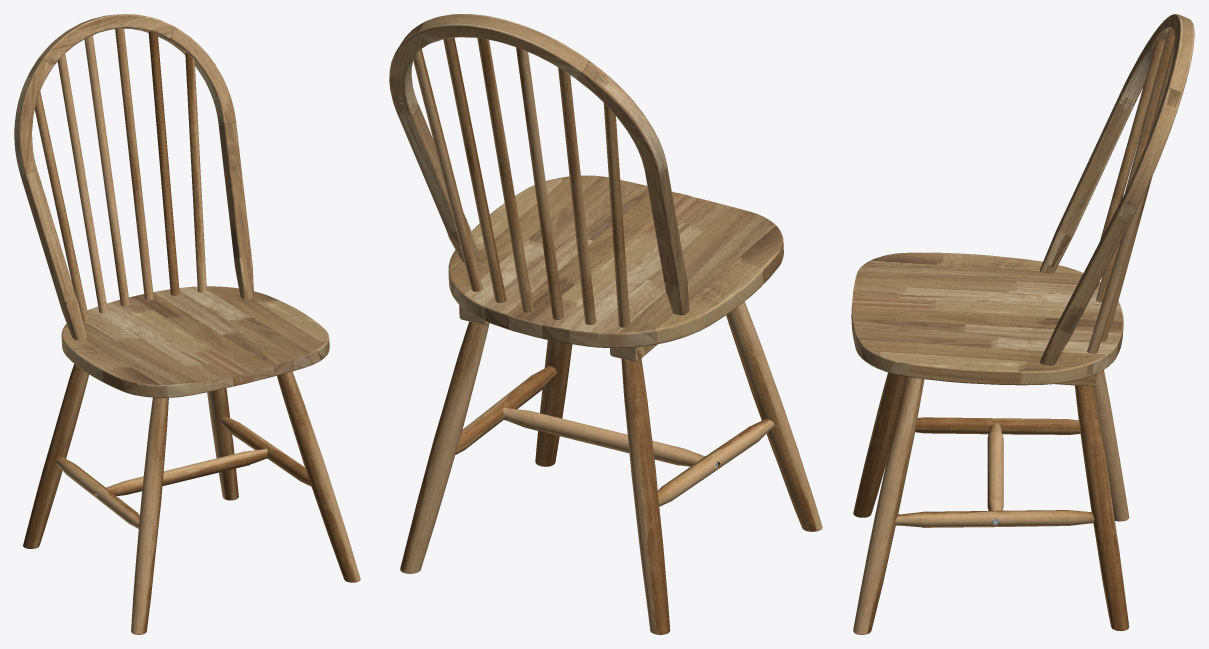
File: skogsta_krzeso_70544866.glb
3 views of the same model, side by side, from view 1: azimuth 30°, elevation 25°; view 2: azimuth 150°, elevation 25°; view 3: azimuth 270°, elevation 25° (orthographic). The views are drawn at different scales.
Parts seen in each view (by area): view 1: skogsta_krzeso_70544866; view 2: skogsta_krzeso_70544866; view 3: skogsta_krzeso_70544866.
Boxes of the visible parts, x1,y1,x2,y2 form: skogsta_krzeso_70544866: (14, 14, 360, 634); skogsta_krzeso_70544866: (389, 14, 822, 634); skogsta_krzeso_70544866: (851, 14, 1194, 634).
Bounding box in the file's own units: 0.4636 × 0.9433 × 0.5385.
1 material, 1 textured.
